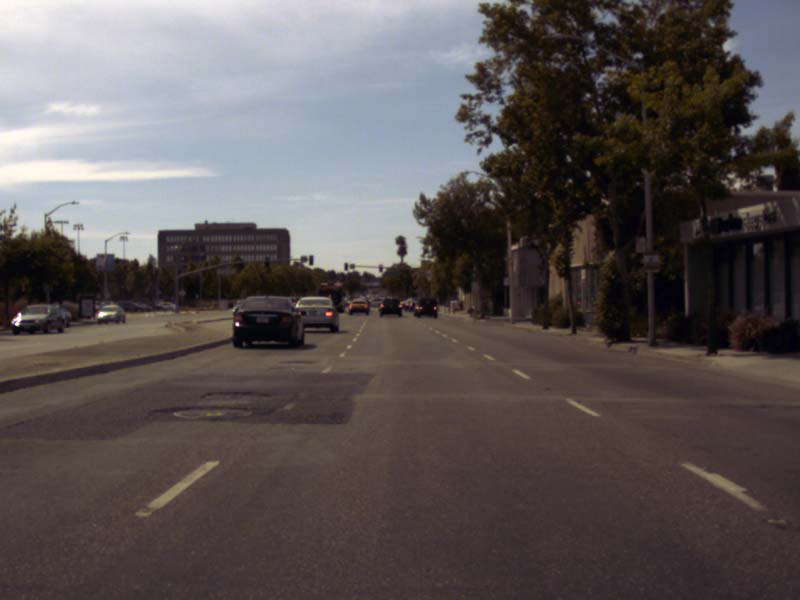Red: (309, 256, 312, 264), (344, 263, 347, 270), (379, 264, 382, 271), (405, 267, 407, 273)
